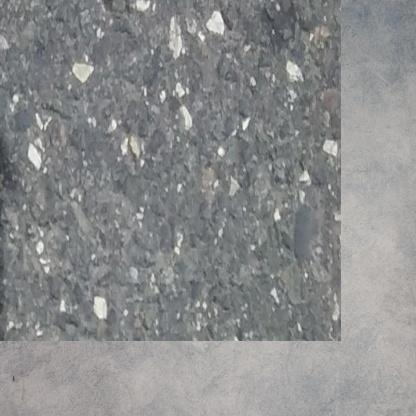Cracks: (0, 84, 19, 315)
